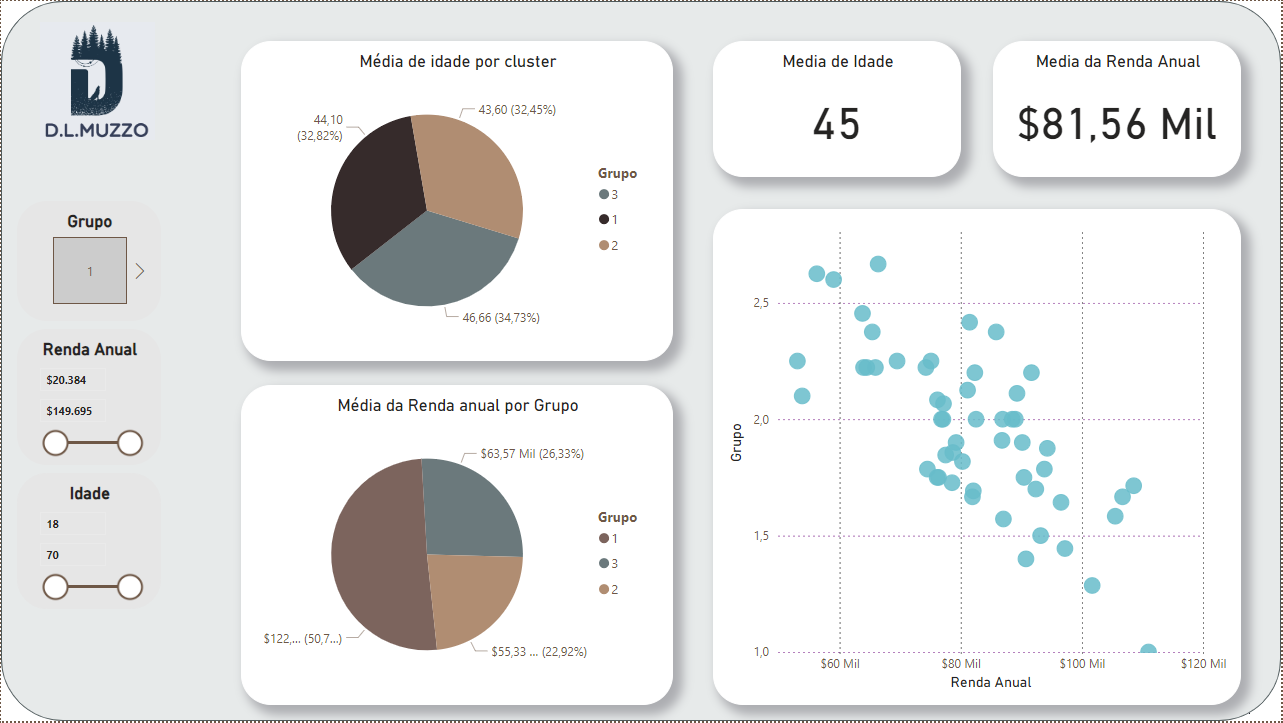

Layout of this report page (visuals, bound fields, positions):
{"tool":"powerbi","page":{"name":"Página 1","canvas":[1280,720],"ordinal":0},"visuals":[{"type":"shape","box":[0,0,1280,720],"z":0},{"type":"image","box":[32,16,128,128],"z":1500},{"type":"slicer","title":"Grupo","fields":{"Values":["Analise_com_segmentacao.cluster"]},"box":[16,200,144,120],"z":1501},{"type":"slicer","title":"Renda Anual","fields":{"Values":["Analise_com_segmentacao.renda_anual"]},"box":[16,328,144,136],"z":1502},{"type":"slicer","title":"Idade","fields":{"Values":["Analise_com_segmentacao.idade"]},"box":[16,472,144,136],"z":1503},{"type":"pieChart","fields":{"Y":["Avg(Analise_com_segmentacao.idade)"],"Category":["Analise_com_segmentacao.cluster"]},"box":[240,40,432,320],"z":1504},{"type":"scatterChart","fields":{"X":["Avg(Analise_com_segmentacao.renda_anual)"],"Y":["Avg(Analise_com_segmentacao.cluster)"],"Category":["Analise_com_segmentacao.idade"]},"box":[712,208,528,496],"z":1506},{"type":"card","title":"Media de Idade","fields":{"Values":["Avg(Analise_com_segmentacao.idade)"]},"box":[712,40,248,136],"z":1507},{"type":"card","title":"Media da Renda Anual","fields":{"Values":["Avg(Analise_com_segmentacao.renda_anual)"]},"box":[992,40,248,136],"z":1508},{"type":"pieChart","title":"Média da Renda anual por Grupo","fields":{"Category":["Analise_com_segmentacao.cluster"],"Y":["Avg(Analise_com_segmentacao.renda_anual)"]},"box":[240,384,432,320],"z":1509}]}

Visuals, with their boxes in screenshot pixels (x1, y1, x2, y2), scaled from the page's 1280x720 canvas onto the 1283x723 screenshot:
shape: rect(0, 0, 1282, 722)
image: rect(32, 16, 160, 145)
"Grupo" slicer: rect(16, 201, 160, 321)
"Renda Anual" slicer: rect(16, 329, 160, 466)
"Idade" slicer: rect(16, 474, 160, 611)
pieChart - Avg(Analise_com_segmentacao.idade) x Analise_com_segmentacao.cluster: rect(241, 40, 674, 362)
scatterChart - Avg(Analise_com_segmentacao.renda_anual) x Avg(Analise_com_segmentacao.cluster): rect(714, 209, 1243, 707)
"Media de Idade" card: rect(714, 40, 962, 177)
"Media da Renda Anual" card: rect(994, 40, 1243, 177)
"Média da Renda anual por Grupo" pieChart: rect(241, 386, 674, 707)
